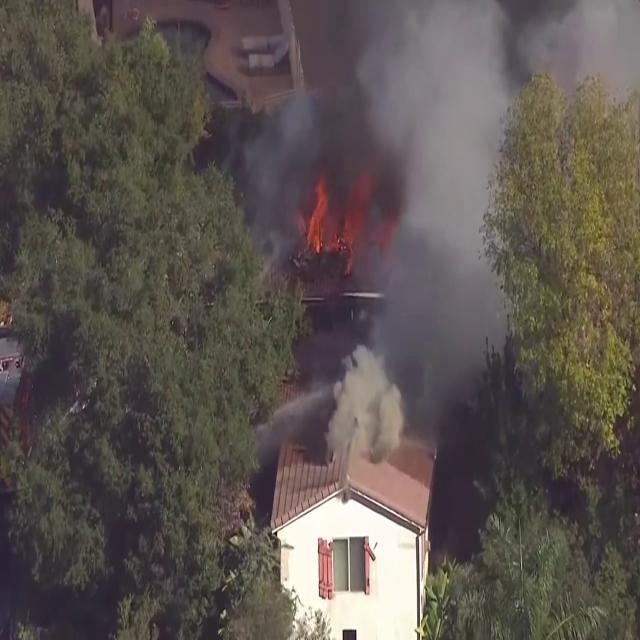Fire: (302, 174, 332, 258)
Smoke: (239, 1, 634, 418)
